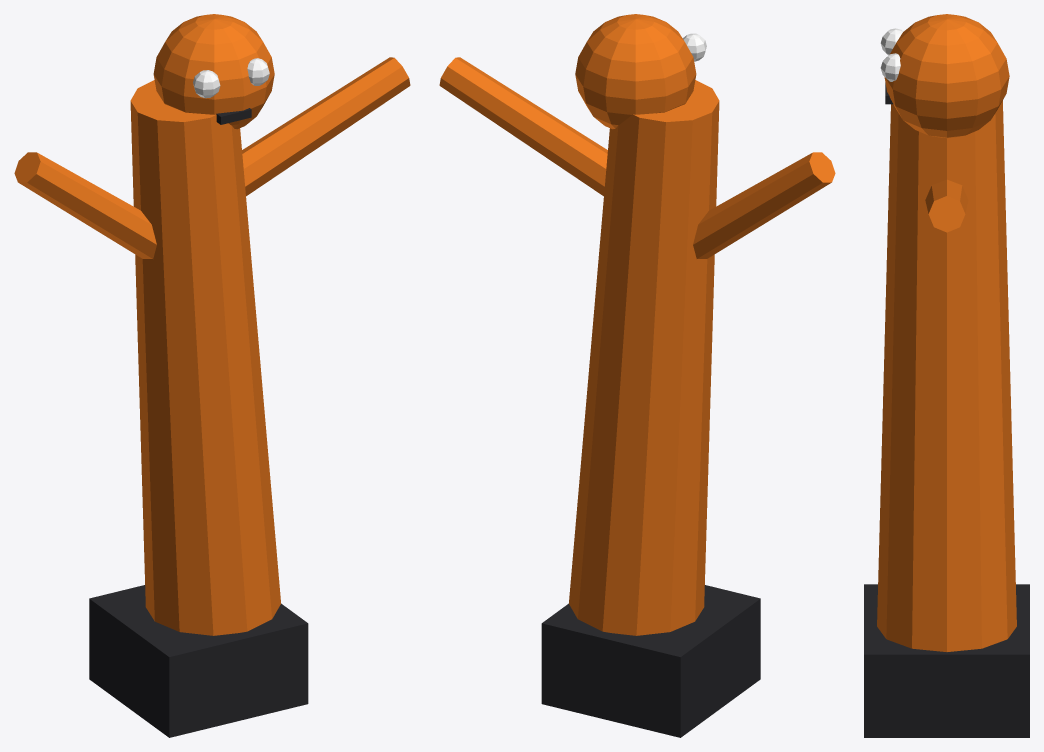
The model's file is inflatable_man.glb.
The picture shows the model from 3 angles, left to right: view 1: azimuth 30°, elevation 25°; view 2: azimuth 150°, elevation 25°; view 3: azimuth 270°, elevation 25°; orthographic projection. The views are drawn at different scales.
Parts seen in each view (by area): view 1: body_inflatable_orange, fan_inflatable_dark, head_inflatable_orange, arm_r_inflatable_orange, arm_l_inflatable_orange, eye_inflatable_white; view 2: body_inflatable_orange, fan_inflatable_dark, head_inflatable_orange, arm_r_inflatable_orange, arm_l_inflatable_orange; view 3: body_inflatable_orange, fan_inflatable_dark, head_inflatable_orange, arm_r_inflatable_orange, eye_inflatable_white.
Boxes of the visible parts, x1=… form: body_inflatable_orange: x1=130, y1=80, x2=280, y2=635; fan_inflatable_dark: x1=89, y1=585, x2=308, y2=737; head_inflatable_orange: x1=153, y1=14, x2=274, y2=129; arm_r_inflatable_orange: x1=242, y1=57, x2=410, y2=196; arm_l_inflatable_orange: x1=14, y1=152, x2=156, y2=258; eye_inflatable_white: x1=193, y1=58, x2=269, y2=98; body_inflatable_orange: x1=569, y1=80, x2=719, y2=635; fan_inflatable_dark: x1=541, y1=585, x2=760, y2=737; head_inflatable_orange: x1=575, y1=14, x2=696, y2=129; arm_r_inflatable_orange: x1=439, y1=57, x2=607, y2=196; arm_l_inflatable_orange: x1=693, y1=152, x2=835, y2=258; body_inflatable_orange: x1=877, y1=100, x2=1016, y2=651; fan_inflatable_dark: x1=864, y1=584, x2=1029, y2=737; head_inflatable_orange: x1=884, y1=14, x2=1009, y2=138; arm_r_inflatable_orange: x1=925, y1=179, x2=968, y2=232; eye_inflatable_white: x1=880, y1=28, x2=902, y2=81.
Bounding box in the file's own units: 2.51 × 4.14 × 0.9.
